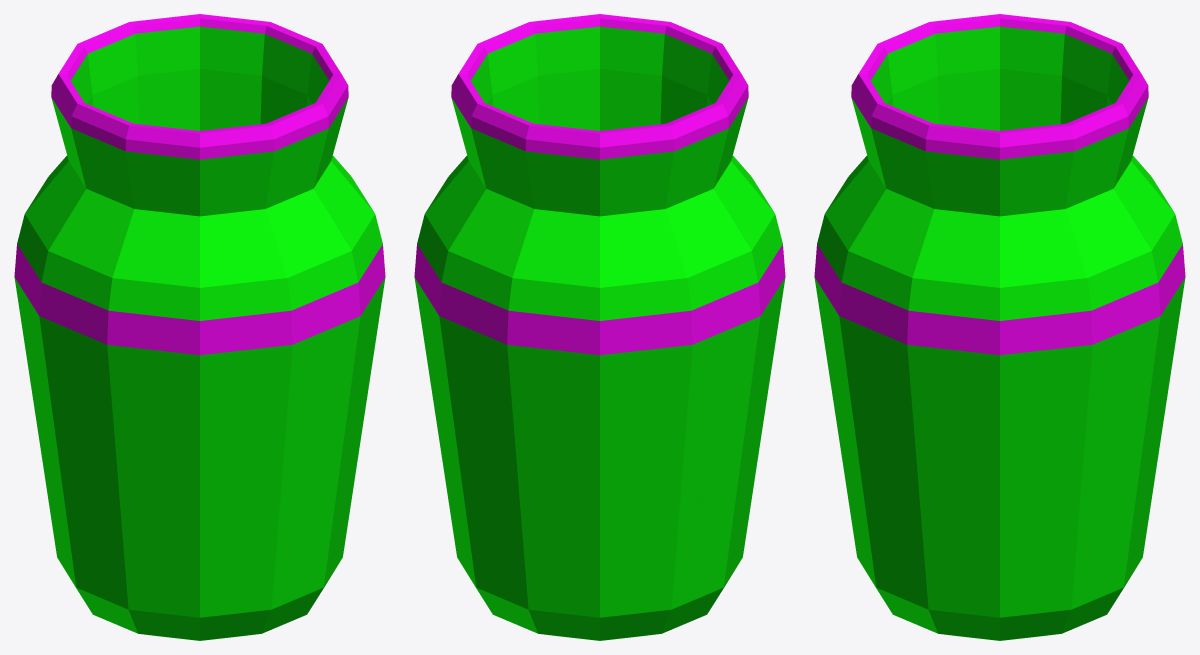
Rendered from POT_4.fbx.
The picture shows the model from 3 angles, left to right: view 1: azimuth 30°, elevation 25°; view 2: azimuth 150°, elevation 25°; view 3: azimuth 270°, elevation 25°; orthographic projection.
Visible parts, largest first — view 1: POTERIE_4; view 2: POTERIE_4; view 3: POTERIE_4.
Boxes of the visible parts, x1,y1,x2,y2 form: POTERIE_4: [14, 14, 385, 640]; POTERIE_4: [414, 14, 785, 640]; POTERIE_4: [814, 14, 1185, 640].
Size of the model in its own units: 37.11 by 58.7 by 37.11.
